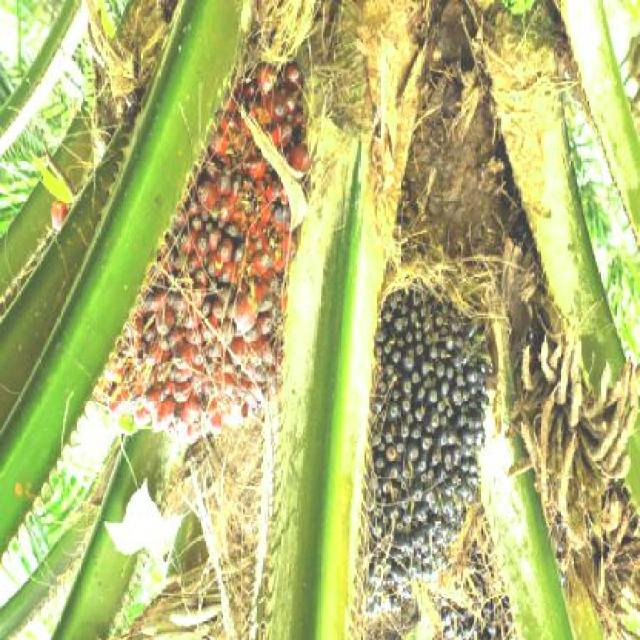palm-oil: (73, 21, 320, 434), (365, 260, 510, 615)
